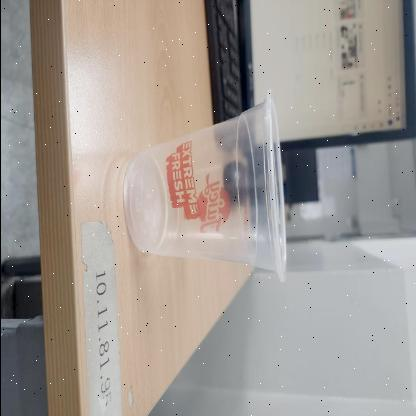Others: (123, 87, 287, 282)
